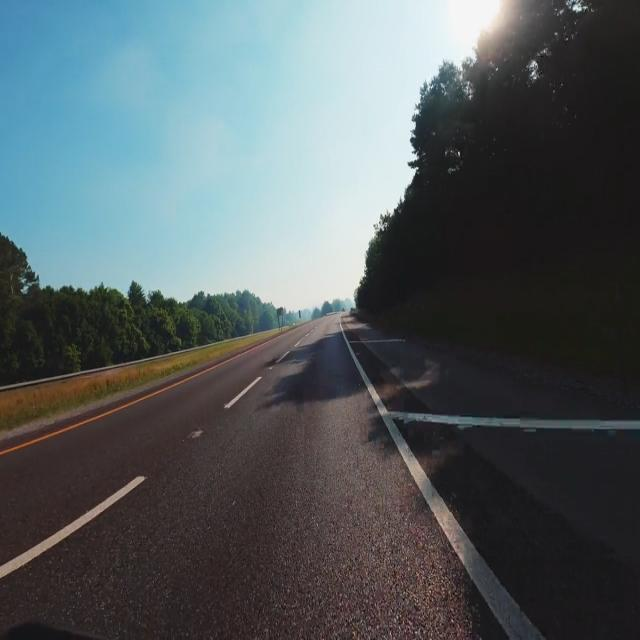asphalt: (0, 316, 640, 639)
grass: (358, 253, 640, 383), (0, 330, 278, 431)
